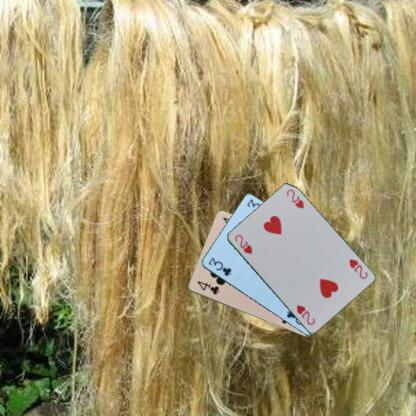2h: (346, 257, 369, 280), (232, 232, 253, 255)
3c: (206, 255, 232, 277)
4c: (194, 278, 221, 296)
